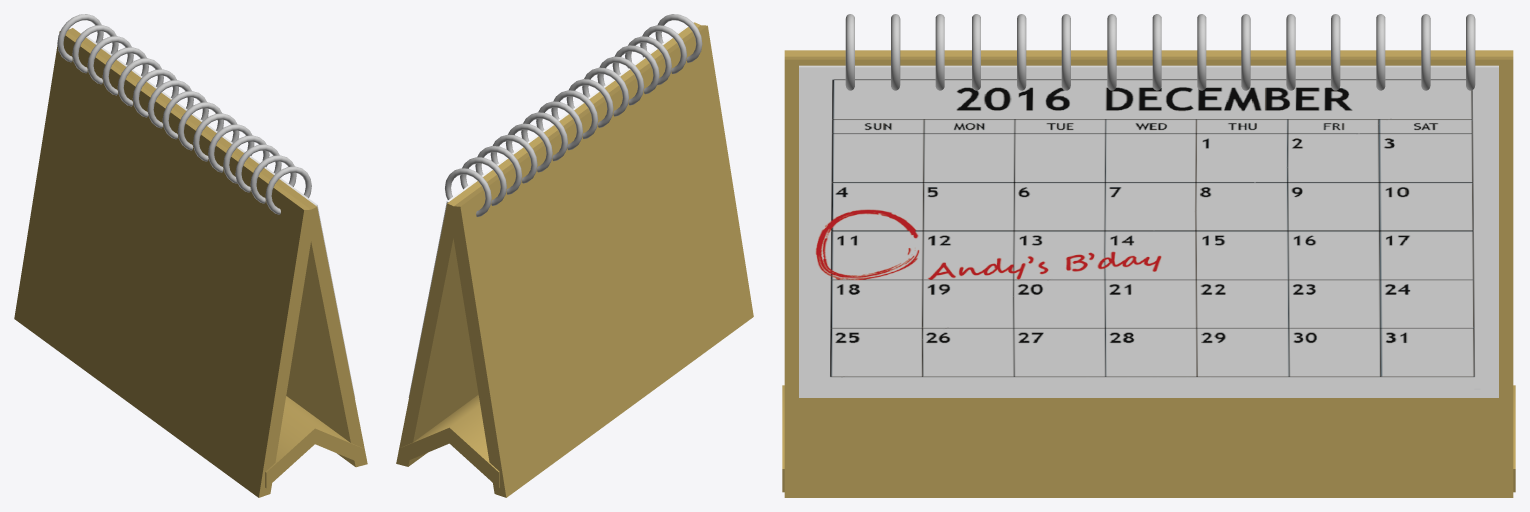
The model's file is Calendar(new).fbx.
3 renders of one model, left to right at view 1: azimuth 30°, elevation 25°; view 2: azimuth 150°, elevation 25°; view 3: azimuth 270°, elevation 25°, orthographic. The views are drawn at different scales.
Parts seen in each view (by area): view 1: Calendar; view 2: Calendar; view 3: Calendar.
Boxes of the visible parts, x1,y1,x2,y2 form: Calendar: (14, 14, 367, 497); Calendar: (396, 14, 753, 497); Calendar: (782, 14, 1515, 497).
Bounding box in the file's own units: 1.43 × 3.8 × 5.61.
Materials: 3 (3 with a texture image).
